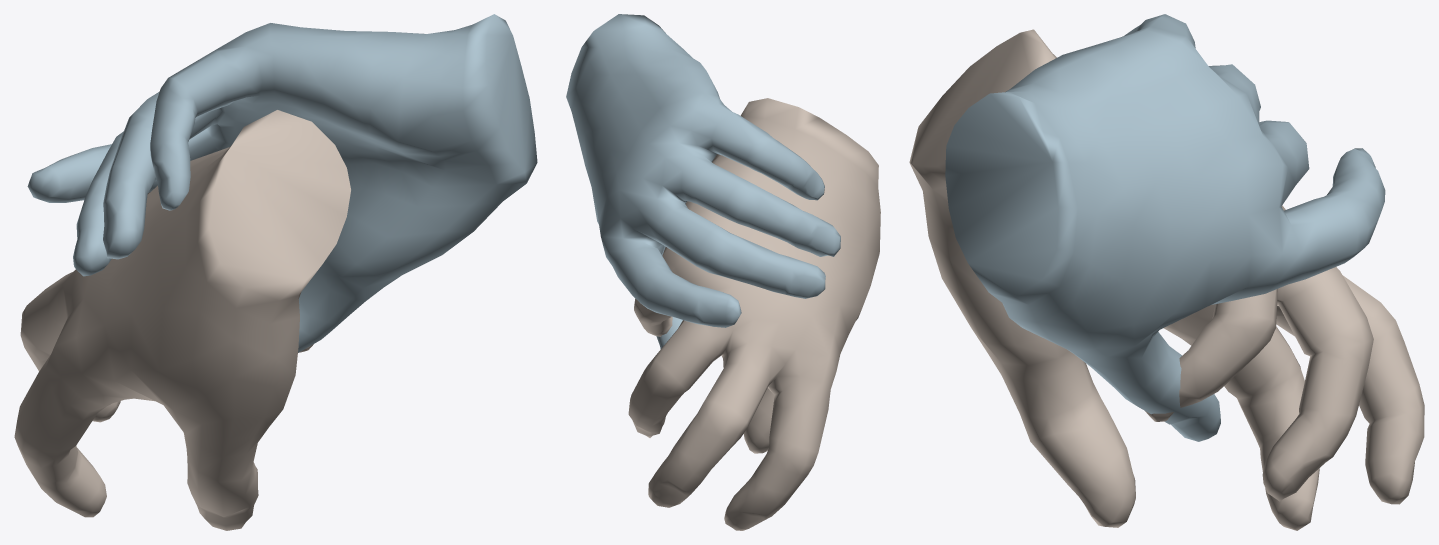
File: pred_1.glb
3 views of the same model, side by side, from view 1: azimuth 30°, elevation 25°; view 2: azimuth 150°, elevation 25°; view 3: azimuth 270°, elevation 25° (orthographic). The views are drawn at different scales.
Bounding box in the file's own units: 0.1576 × 0.1877 × 0.1495.
